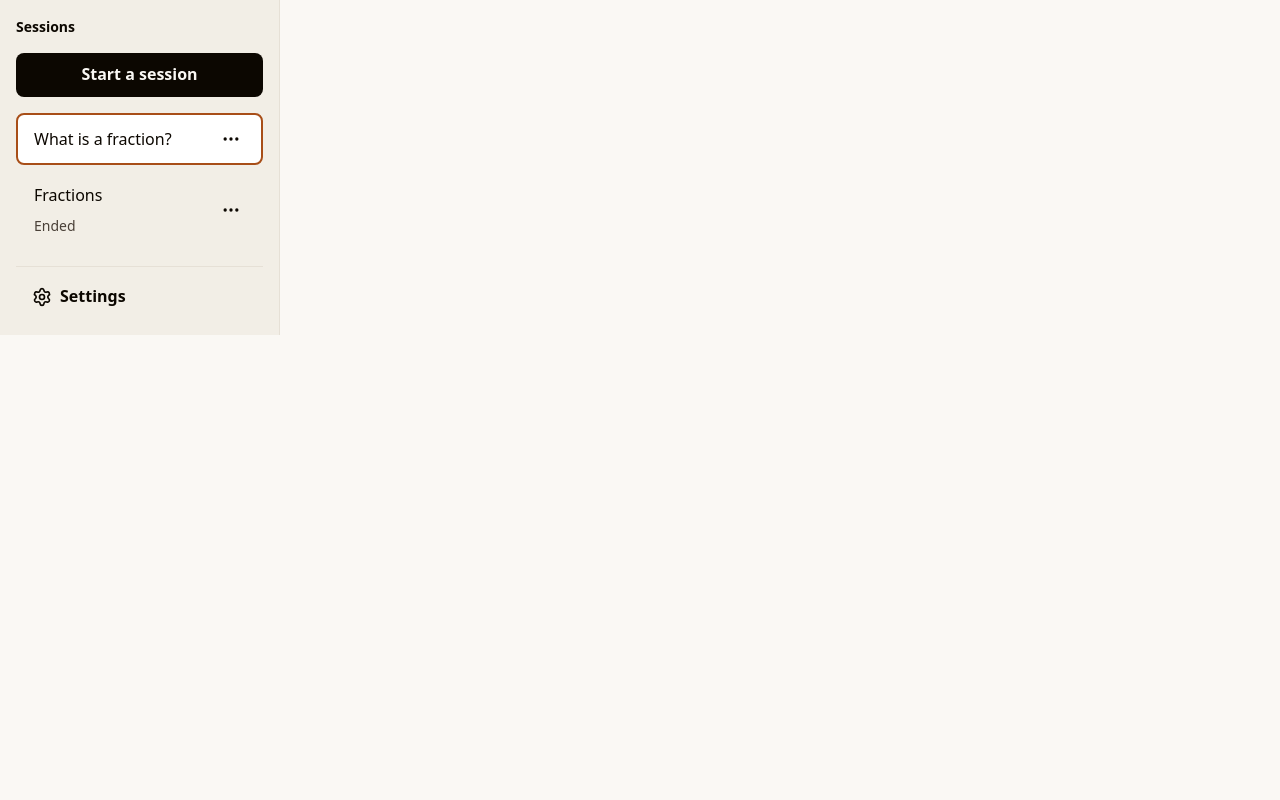
Test: rename starts from the current name and saves what was typed
This screenshot has width=1280, height=800.
Click the button named "Actions for Fractions" at {"x": 231, "y": 210}, box [209,188,253,232]
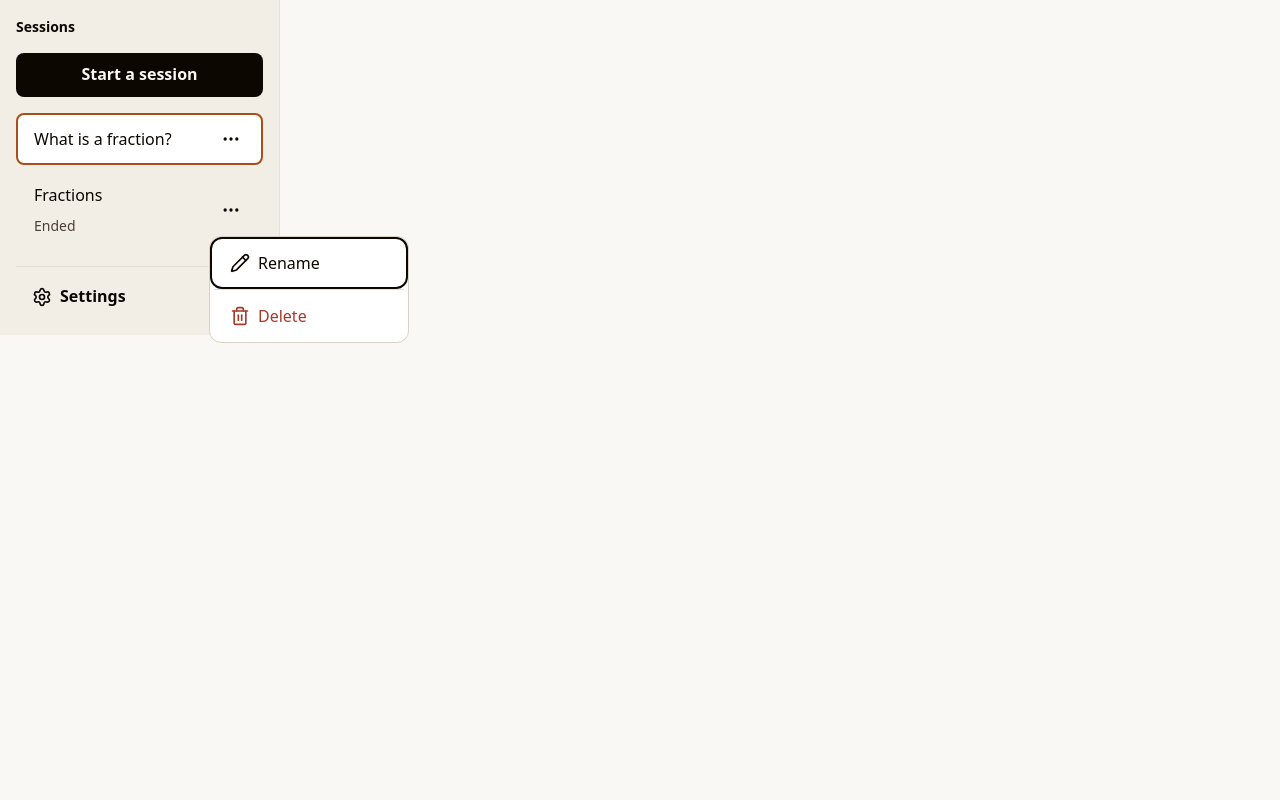
Click the menu item "Rename" at {"x": 309, "y": 262}, box [214,240,404,284]
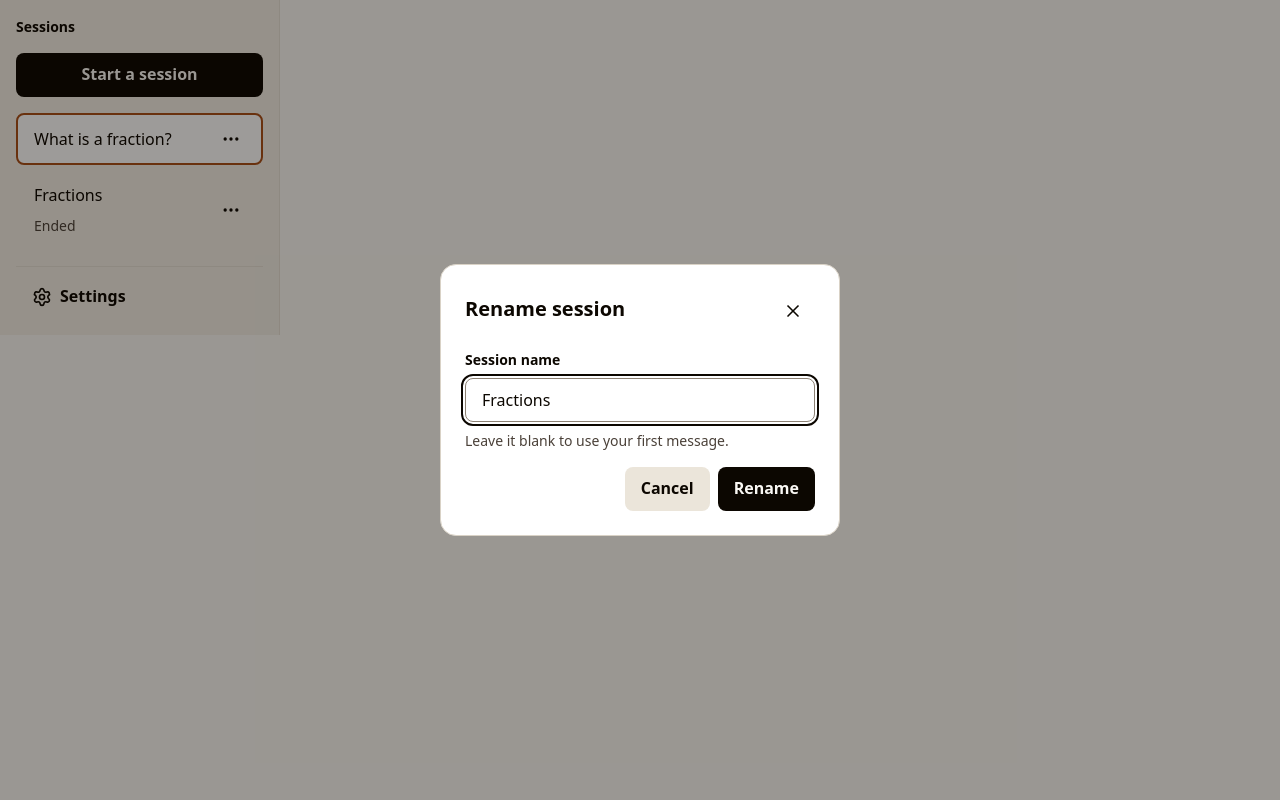
Expected: the field labelled "Session name" holds "Fractions"
Replace the text in the field labelled "Session name" with "Ratios" at {"x": 640, "y": 400}, box [465,378,815,422]
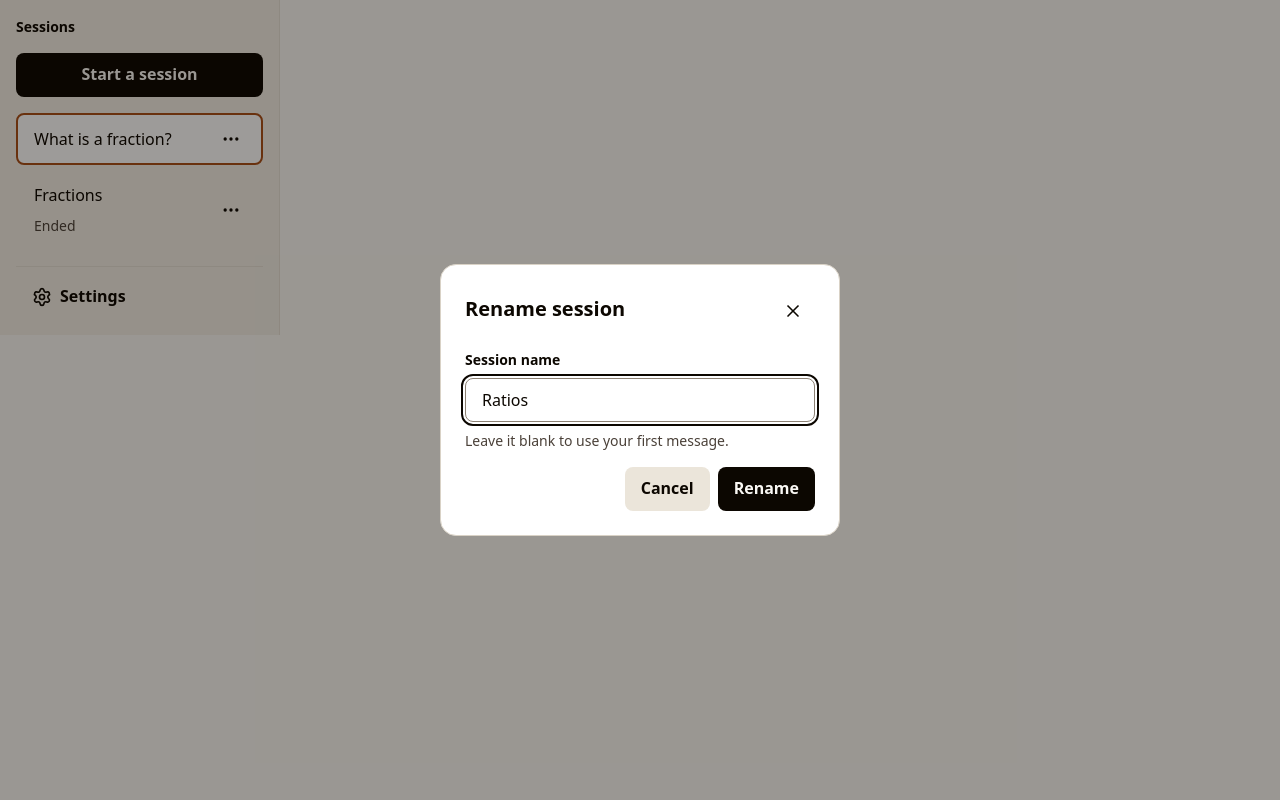
Click the button "Rename" at {"x": 766, "y": 489}, box [718,467,815,511]
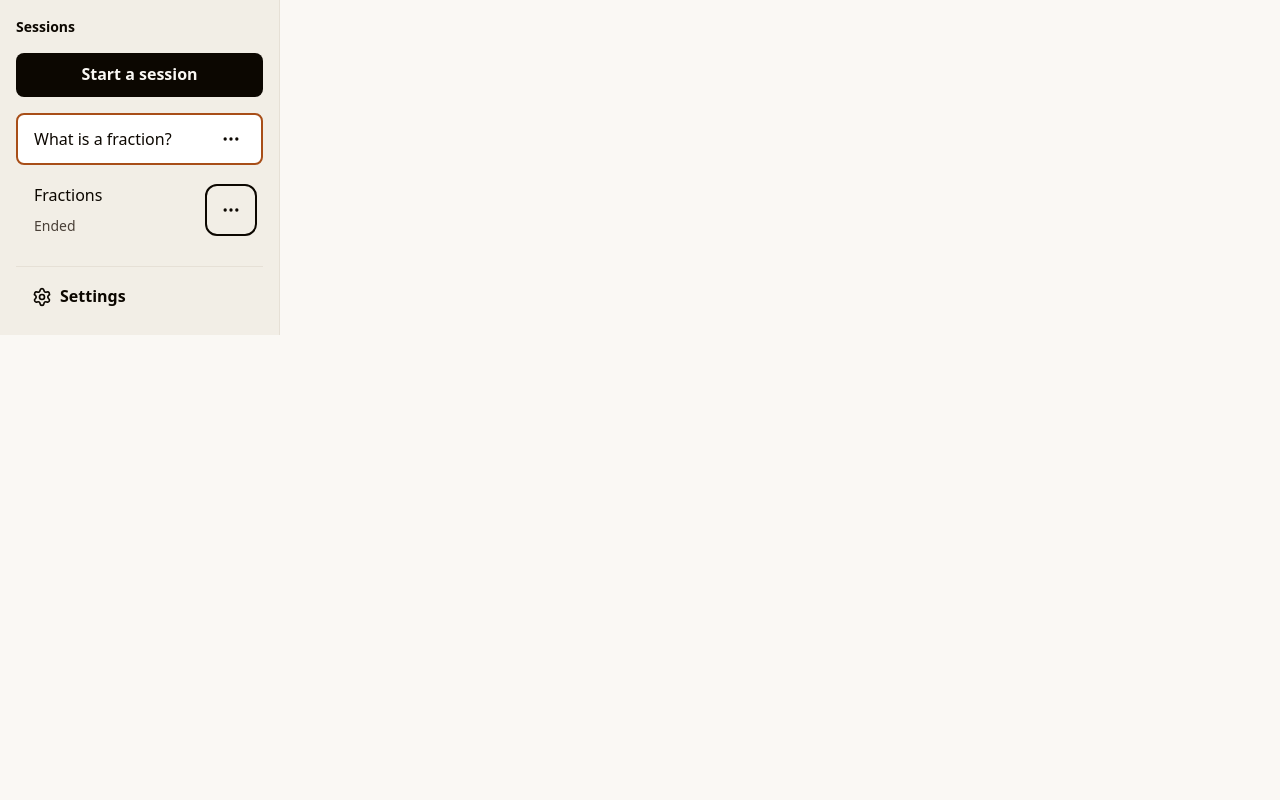
Expected: the dialog is gone
